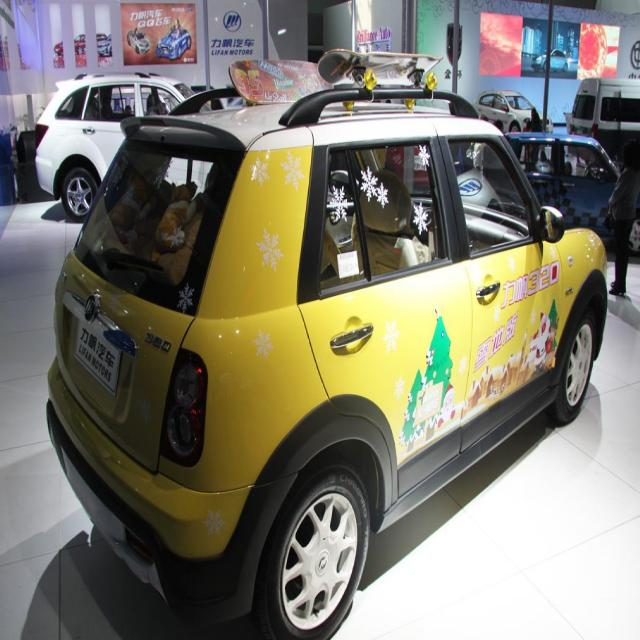back_glass: (74, 126, 248, 316)
back_right_side_light: (158, 345, 210, 472)
door: (292, 141, 467, 471)
front_right_side_door: (435, 119, 566, 468)
front_right_side_mirror: (534, 201, 565, 250)
rear_bumper: (44, 355, 303, 622)
wheel: (252, 462, 370, 640), (540, 303, 596, 424)
